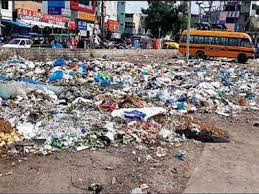garbage: (5, 54, 206, 136), (127, 58, 259, 113)
